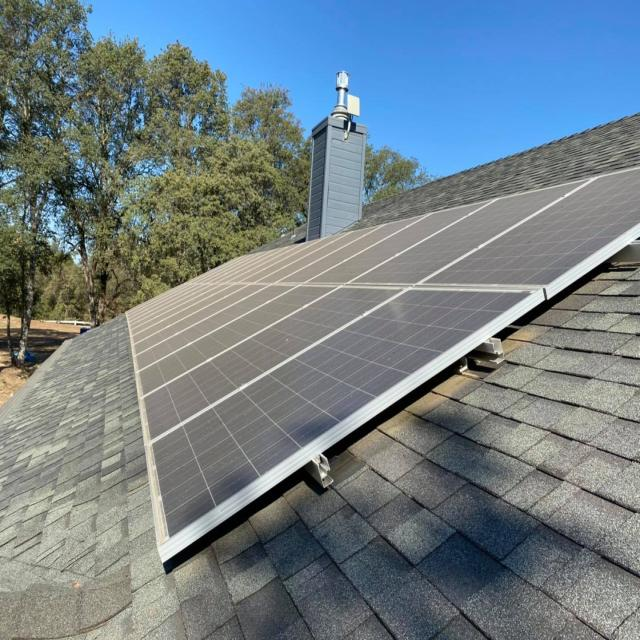dust-solar-panel: (126, 168, 640, 542)
